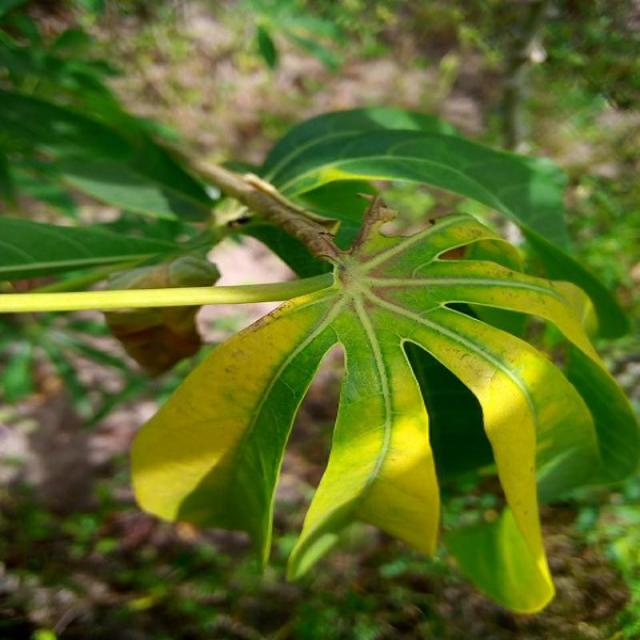cassava leaf: (121, 107, 636, 613)
